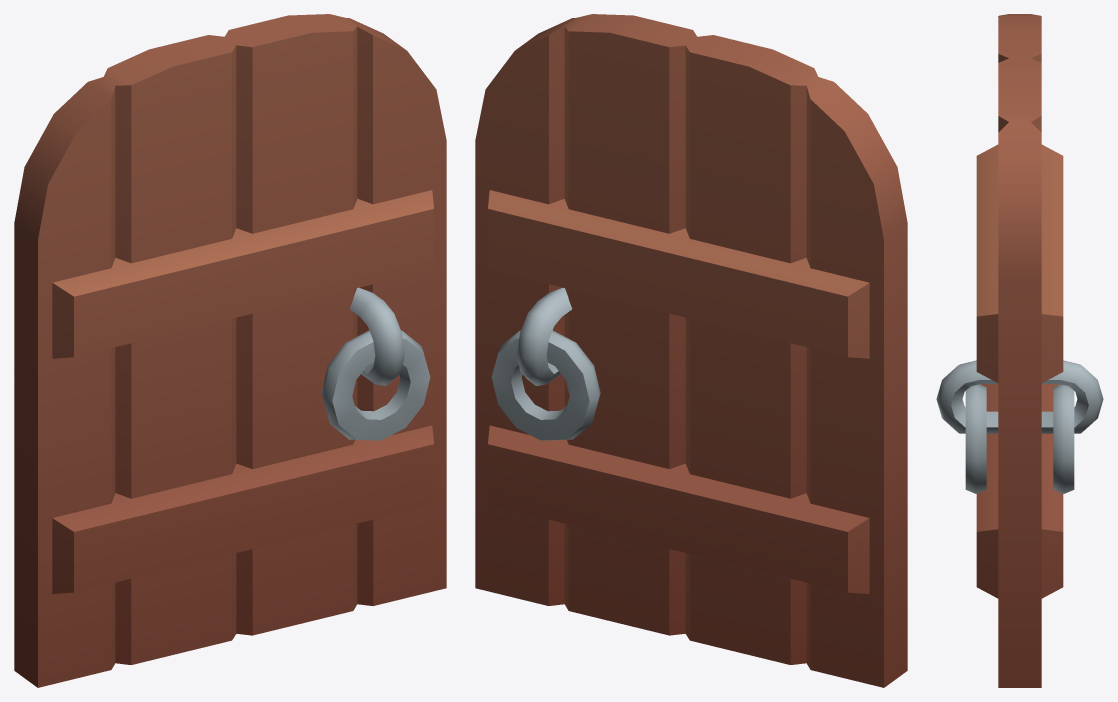
The model's file is wall_doorway_door.obj.
3 views of the same model, side by side, from view 1: azimuth 30°, elevation 25°; view 2: azimuth 150°, elevation 25°; view 3: azimuth 270°, elevation 25° (orthographic). The views are drawn at different scales.
Visible parts, largest first — view 1: wall_doorway_door; view 2: wall_doorway_door; view 3: wall_doorway_door.
Boxes of the visible parts, bbox=[...] form: wall_doorway_door: bbox=[14, 14, 446, 687]; wall_doorway_door: bbox=[475, 14, 907, 687]; wall_doorway_door: bbox=[936, 14, 1103, 687].
Bounding box in the file's own units: 2 × 2.75 × 0.7735.
1 material, 1 textured.
